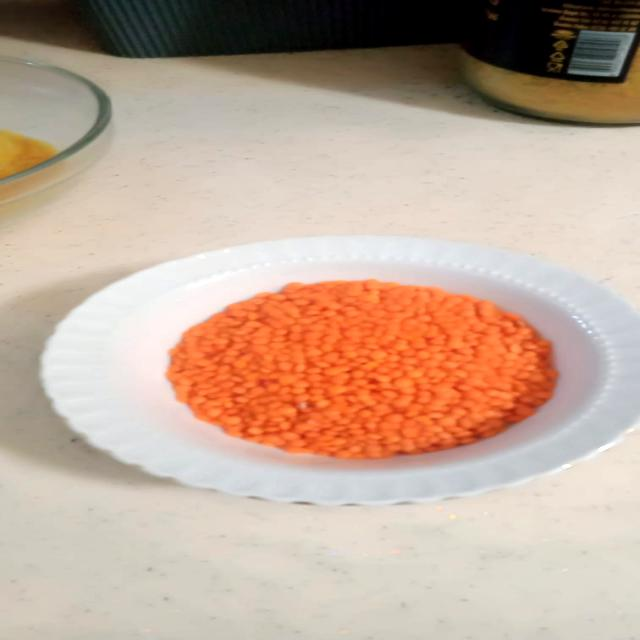red lentils: (152, 258, 580, 475)
